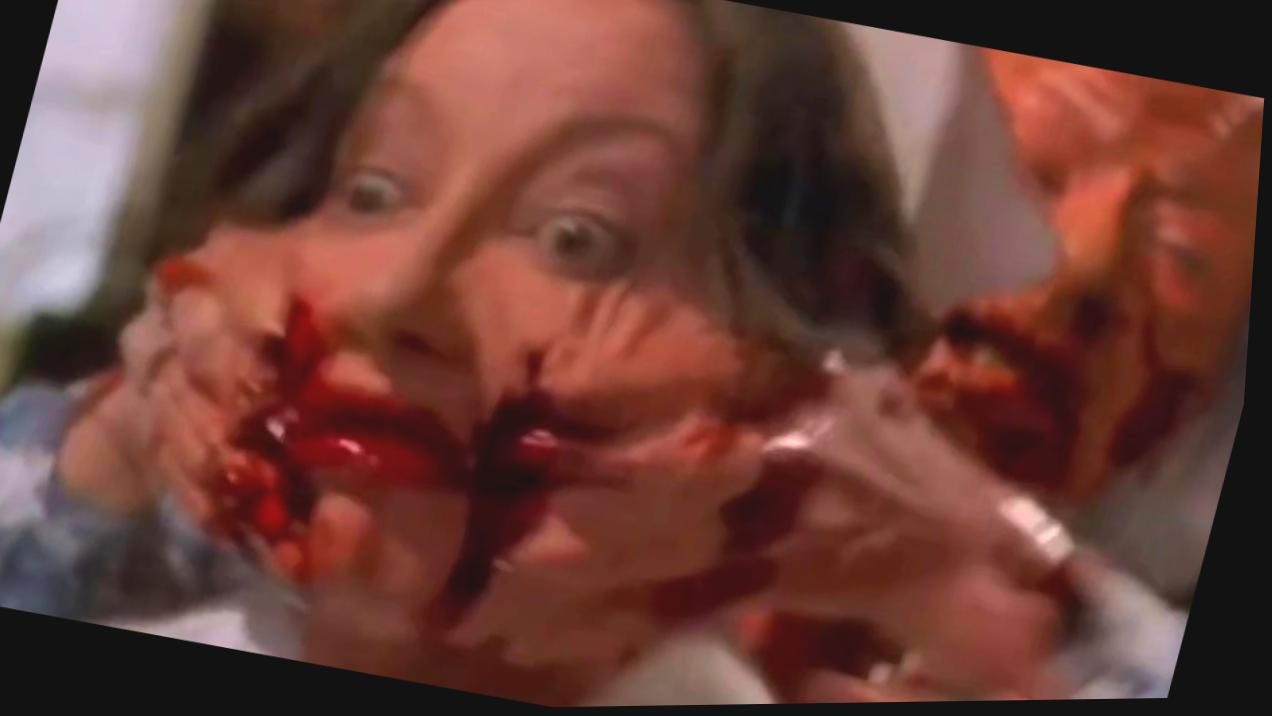Fire: (198, 288, 746, 613), (919, 292, 1244, 532), (665, 456, 826, 621), (749, 610, 901, 685)
